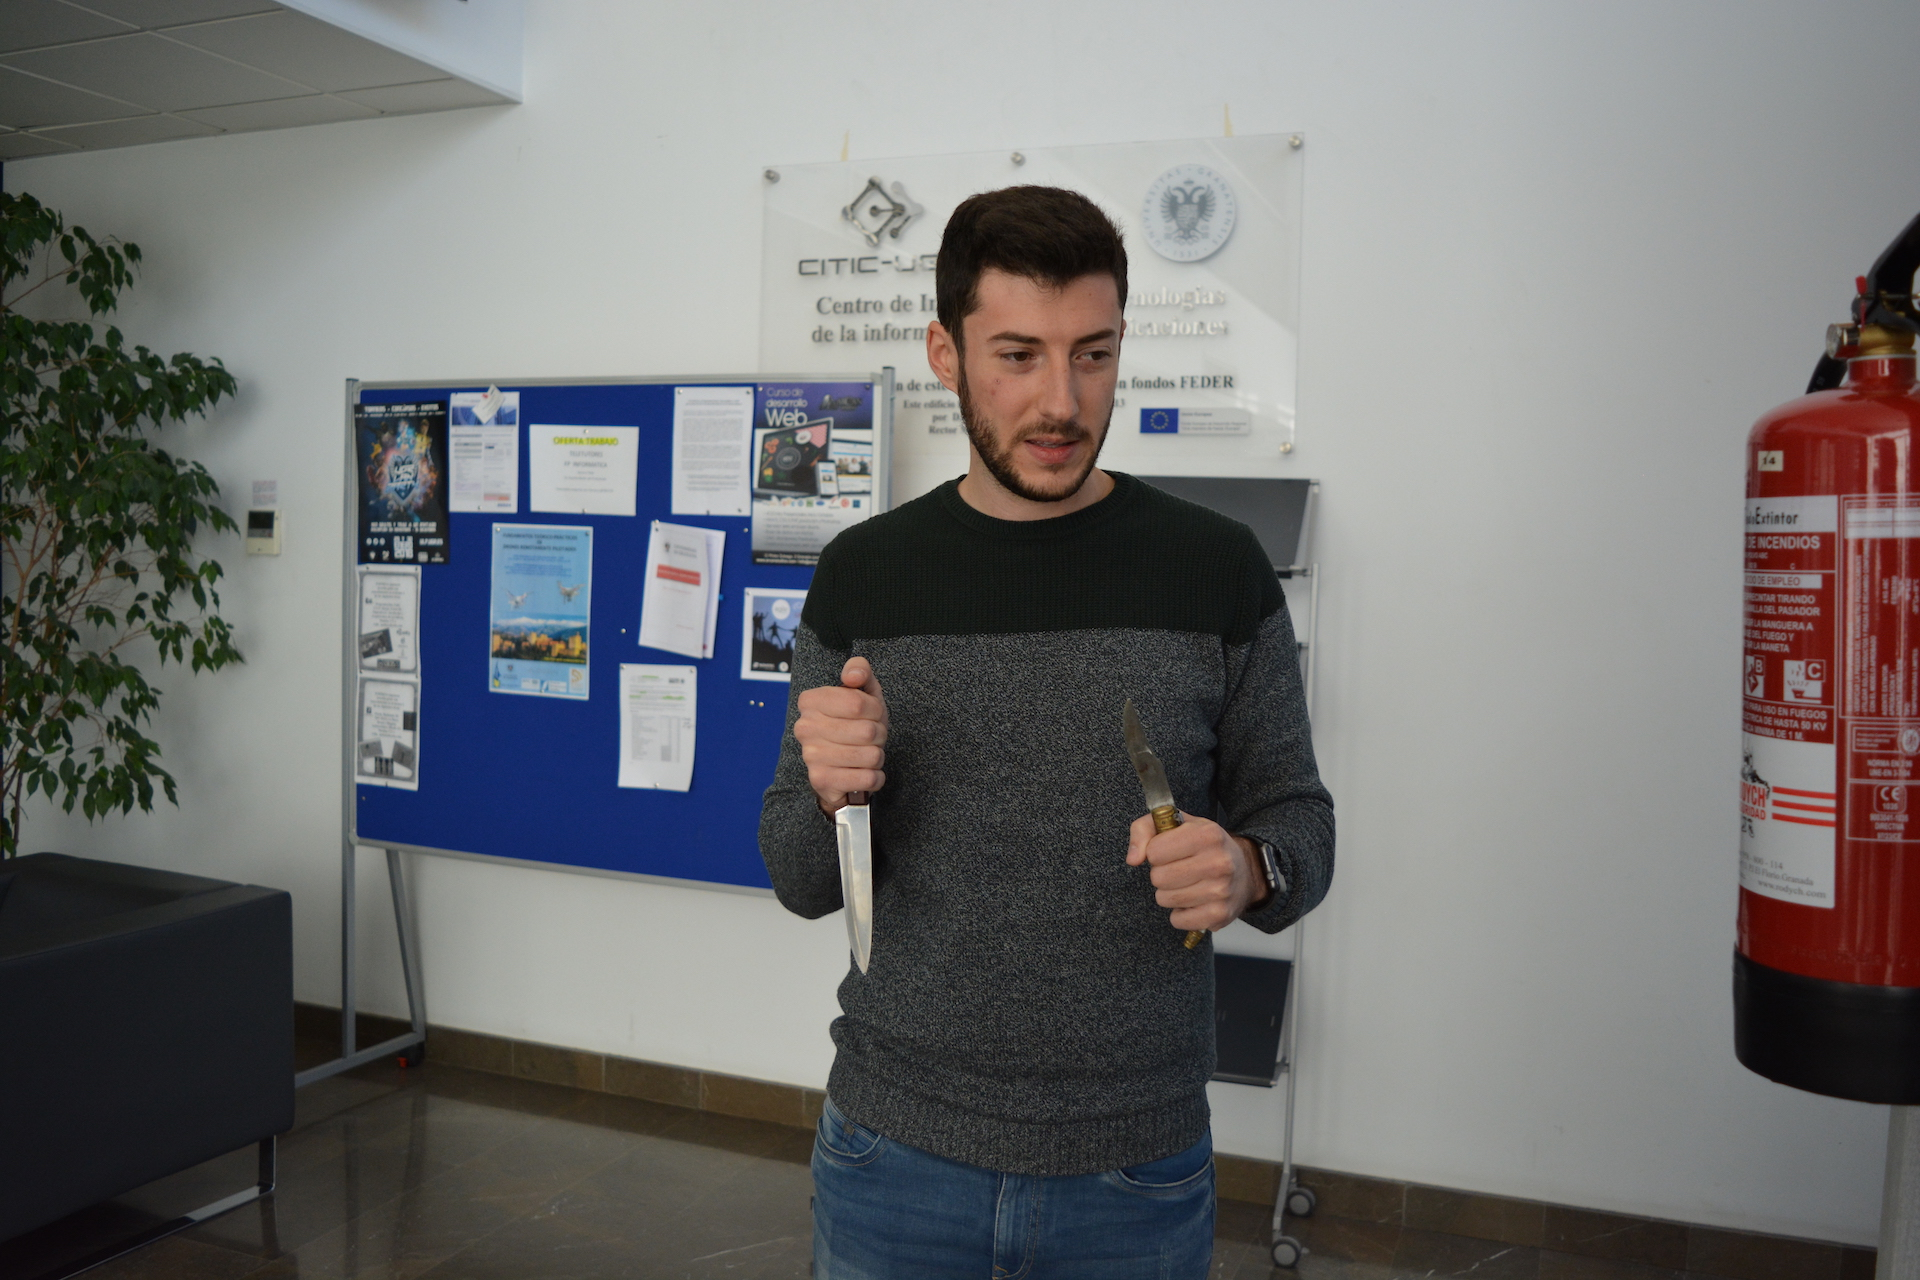knife: (1111, 689, 1214, 949), (829, 779, 890, 986)
